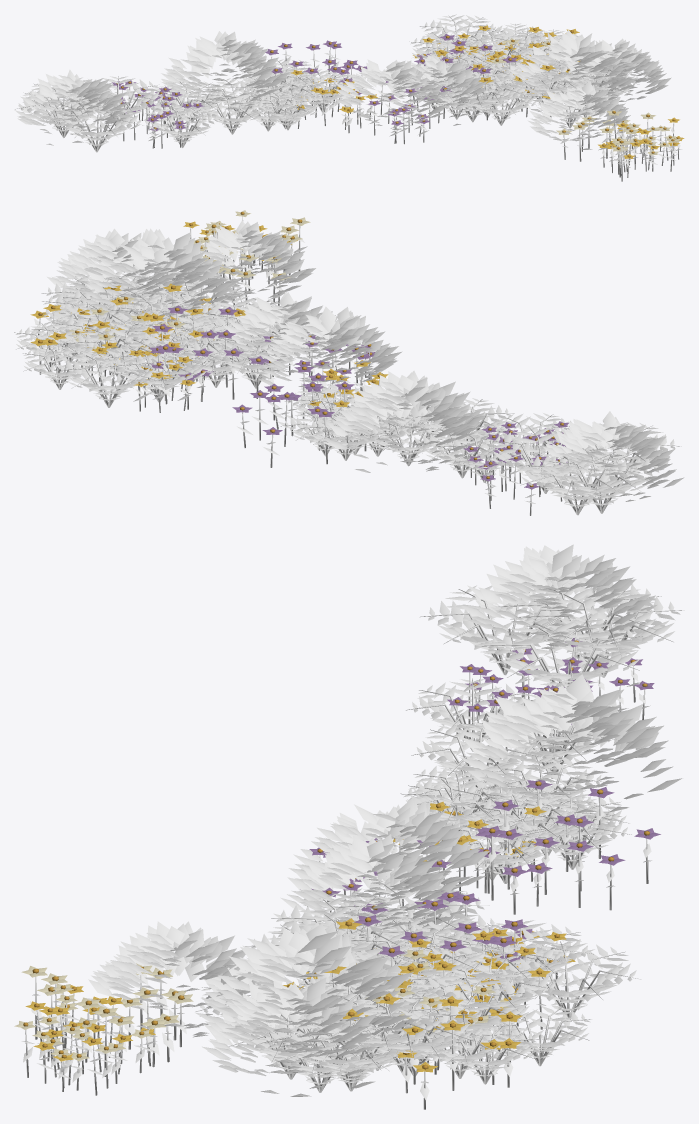
Rendered from SM_DF_Explorer_1_1_Flora.fbx.
3 views of the same model, one above another, from view 1: azimuth 30°, elevation 25°; view 2: azimuth 150°, elevation 25°; view 3: azimuth 270°, elevation 25° (orthographic). The views are drawn at different scales.
Visible parts, largest first — view 1: SM_DF_Explorer_1_1_Flora; view 2: SM_DF_Explorer_1_1_Flora; view 3: SM_DF_Explorer_1_1_Flora.
Part boxes in pixels (x1,y1,x2,y2): SM_DF_Explorer_1_1_Flora: [14, 14, 684, 181]; SM_DF_Explorer_1_1_Flora: [14, 210, 684, 515]; SM_DF_Explorer_1_1_Flora: [14, 544, 684, 1109].
Size of the model in its own units: 1039 by 624 by 160.
